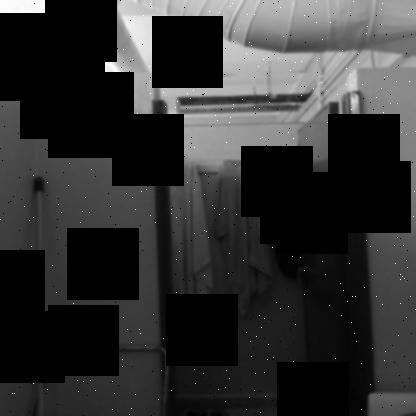Porte: (153, 90, 376, 415)
